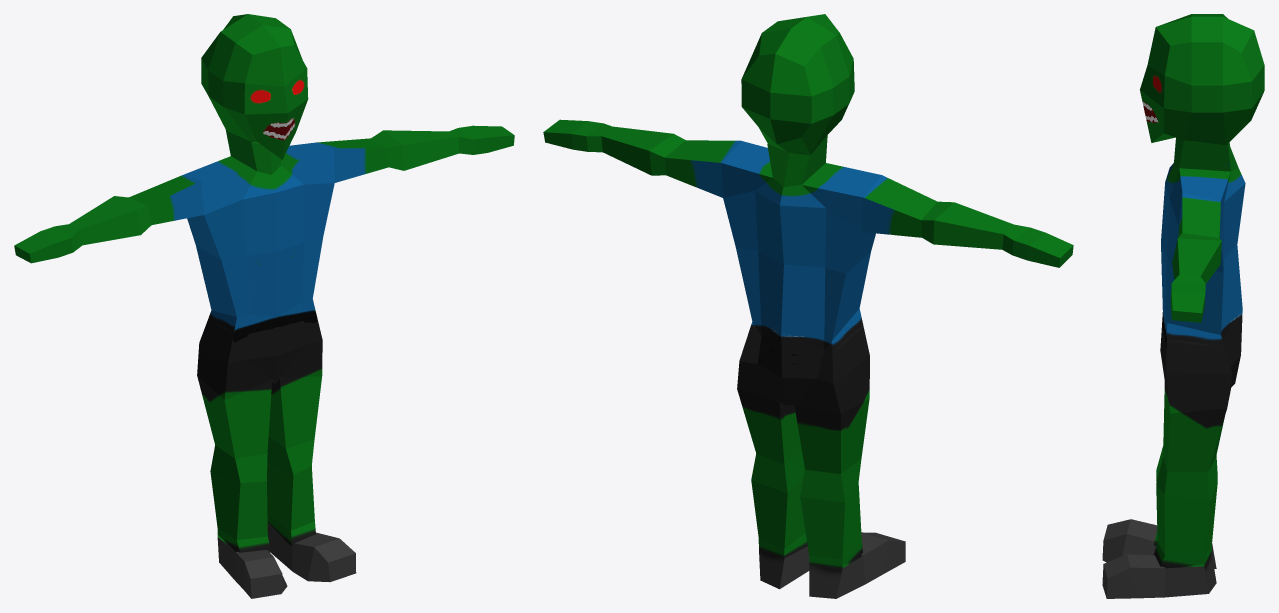
File: zombiemodel.fbx
3 renders of one model, left to right at view 1: azimuth 30°, elevation 25°; view 2: azimuth 150°, elevation 25°; view 3: azimuth 270°, elevation 25°, orthographic. The views are drawn at different scales.
Visible parts, largest first — view 1: Player; view 2: Player; view 3: Player.
Boxes of the visible parts, left/top/right/bottom form: Player: left=14, top=14, right=514, bottom=598; Player: left=543, top=14, right=1073, bottom=598; Player: left=1102, top=14, right=1264, bottom=598.
Bounding box in the file's own units: 1255 × 1315 × 345.
1 material, 1 textured.
